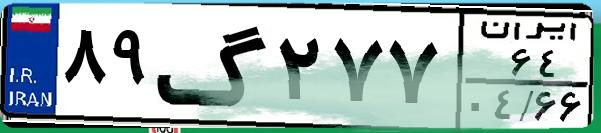0: (470, 70, 495, 125)
2: (270, 28, 330, 110)
4: (537, 27, 568, 80), (495, 70, 520, 125)
6: (560, 70, 590, 125), (508, 27, 537, 80), (535, 70, 560, 125)
7: (385, 28, 445, 110), (330, 28, 385, 110)
8: (57, 26, 110, 100)
9: (110, 28, 156, 98)
گ: (156, 12, 270, 120)
